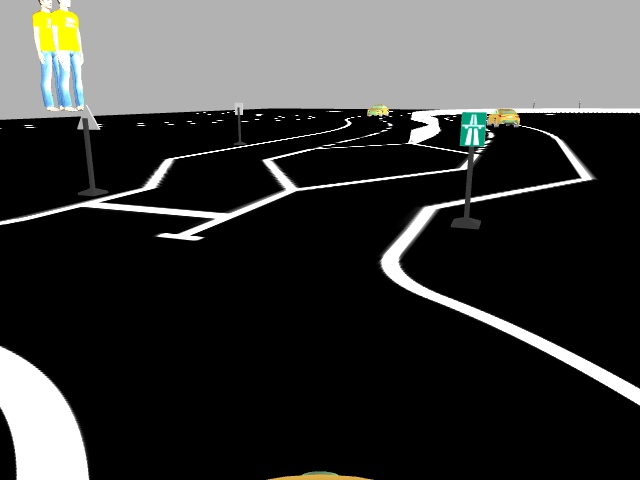HighwayEntrance: (458, 111, 486, 148)
